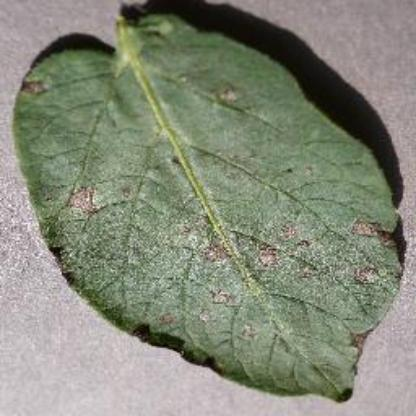Early-Blight: (16, 8, 404, 408)
